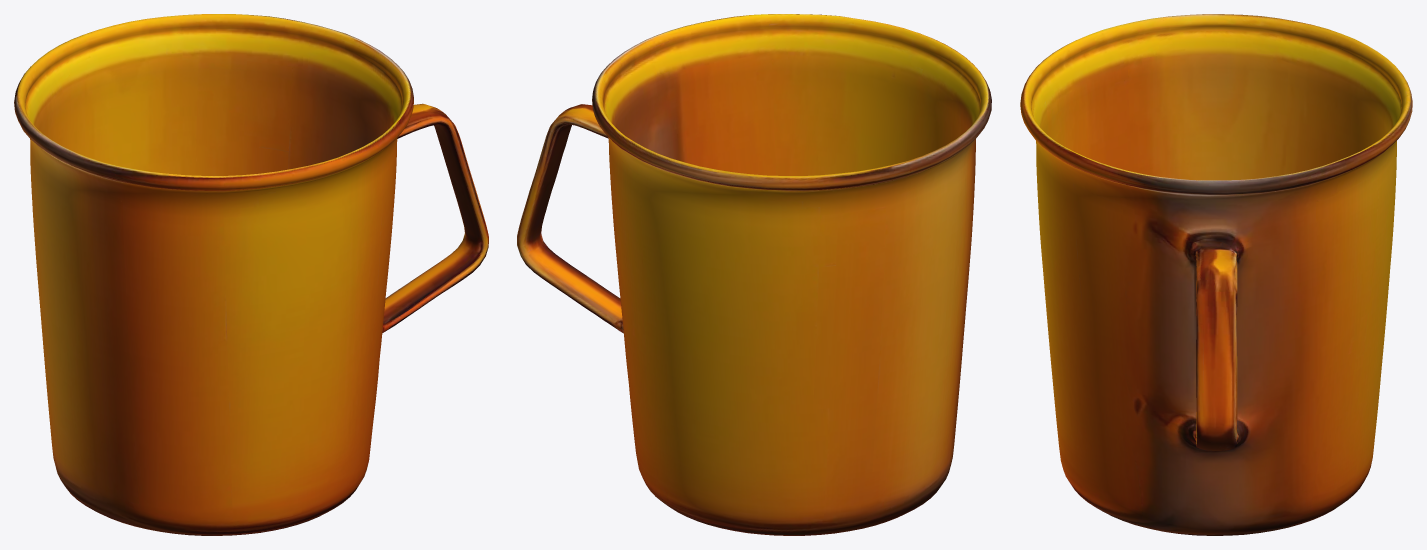
Rendered from cast-amber-mug.glb.
3 renders of one model, left to right at view 1: azimuth 30°, elevation 25°; view 2: azimuth 150°, elevation 25°; view 3: azimuth 270°, elevation 25°, orthographic.
Parts seen in each view (by area): view 1: tripo_node_cc2813cc-39eb-4a9f-bd57-d3c64e680b3a; view 2: tripo_node_cc2813cc-39eb-4a9f-bd57-d3c64e680b3a; view 3: tripo_node_cc2813cc-39eb-4a9f-bd57-d3c64e680b3a.
Part boxes in pixels (x1=…): tripo_node_cc2813cc-39eb-4a9f-bd57-d3c64e680b3a: x1=14, y1=14, x2=488, y2=535; tripo_node_cc2813cc-39eb-4a9f-bd57-d3c64e680b3a: x1=517, y1=14, x2=991, y2=535; tripo_node_cc2813cc-39eb-4a9f-bd57-d3c64e680b3a: x1=1020, y1=14, x2=1412, y2=535.
Size of the model in its own units: 0.1071 by 0.09 by 0.0829.
Materials: 1 (1 with a texture image).
